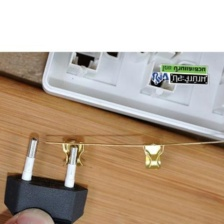three_eye_plug: (37, 42, 223, 146)
